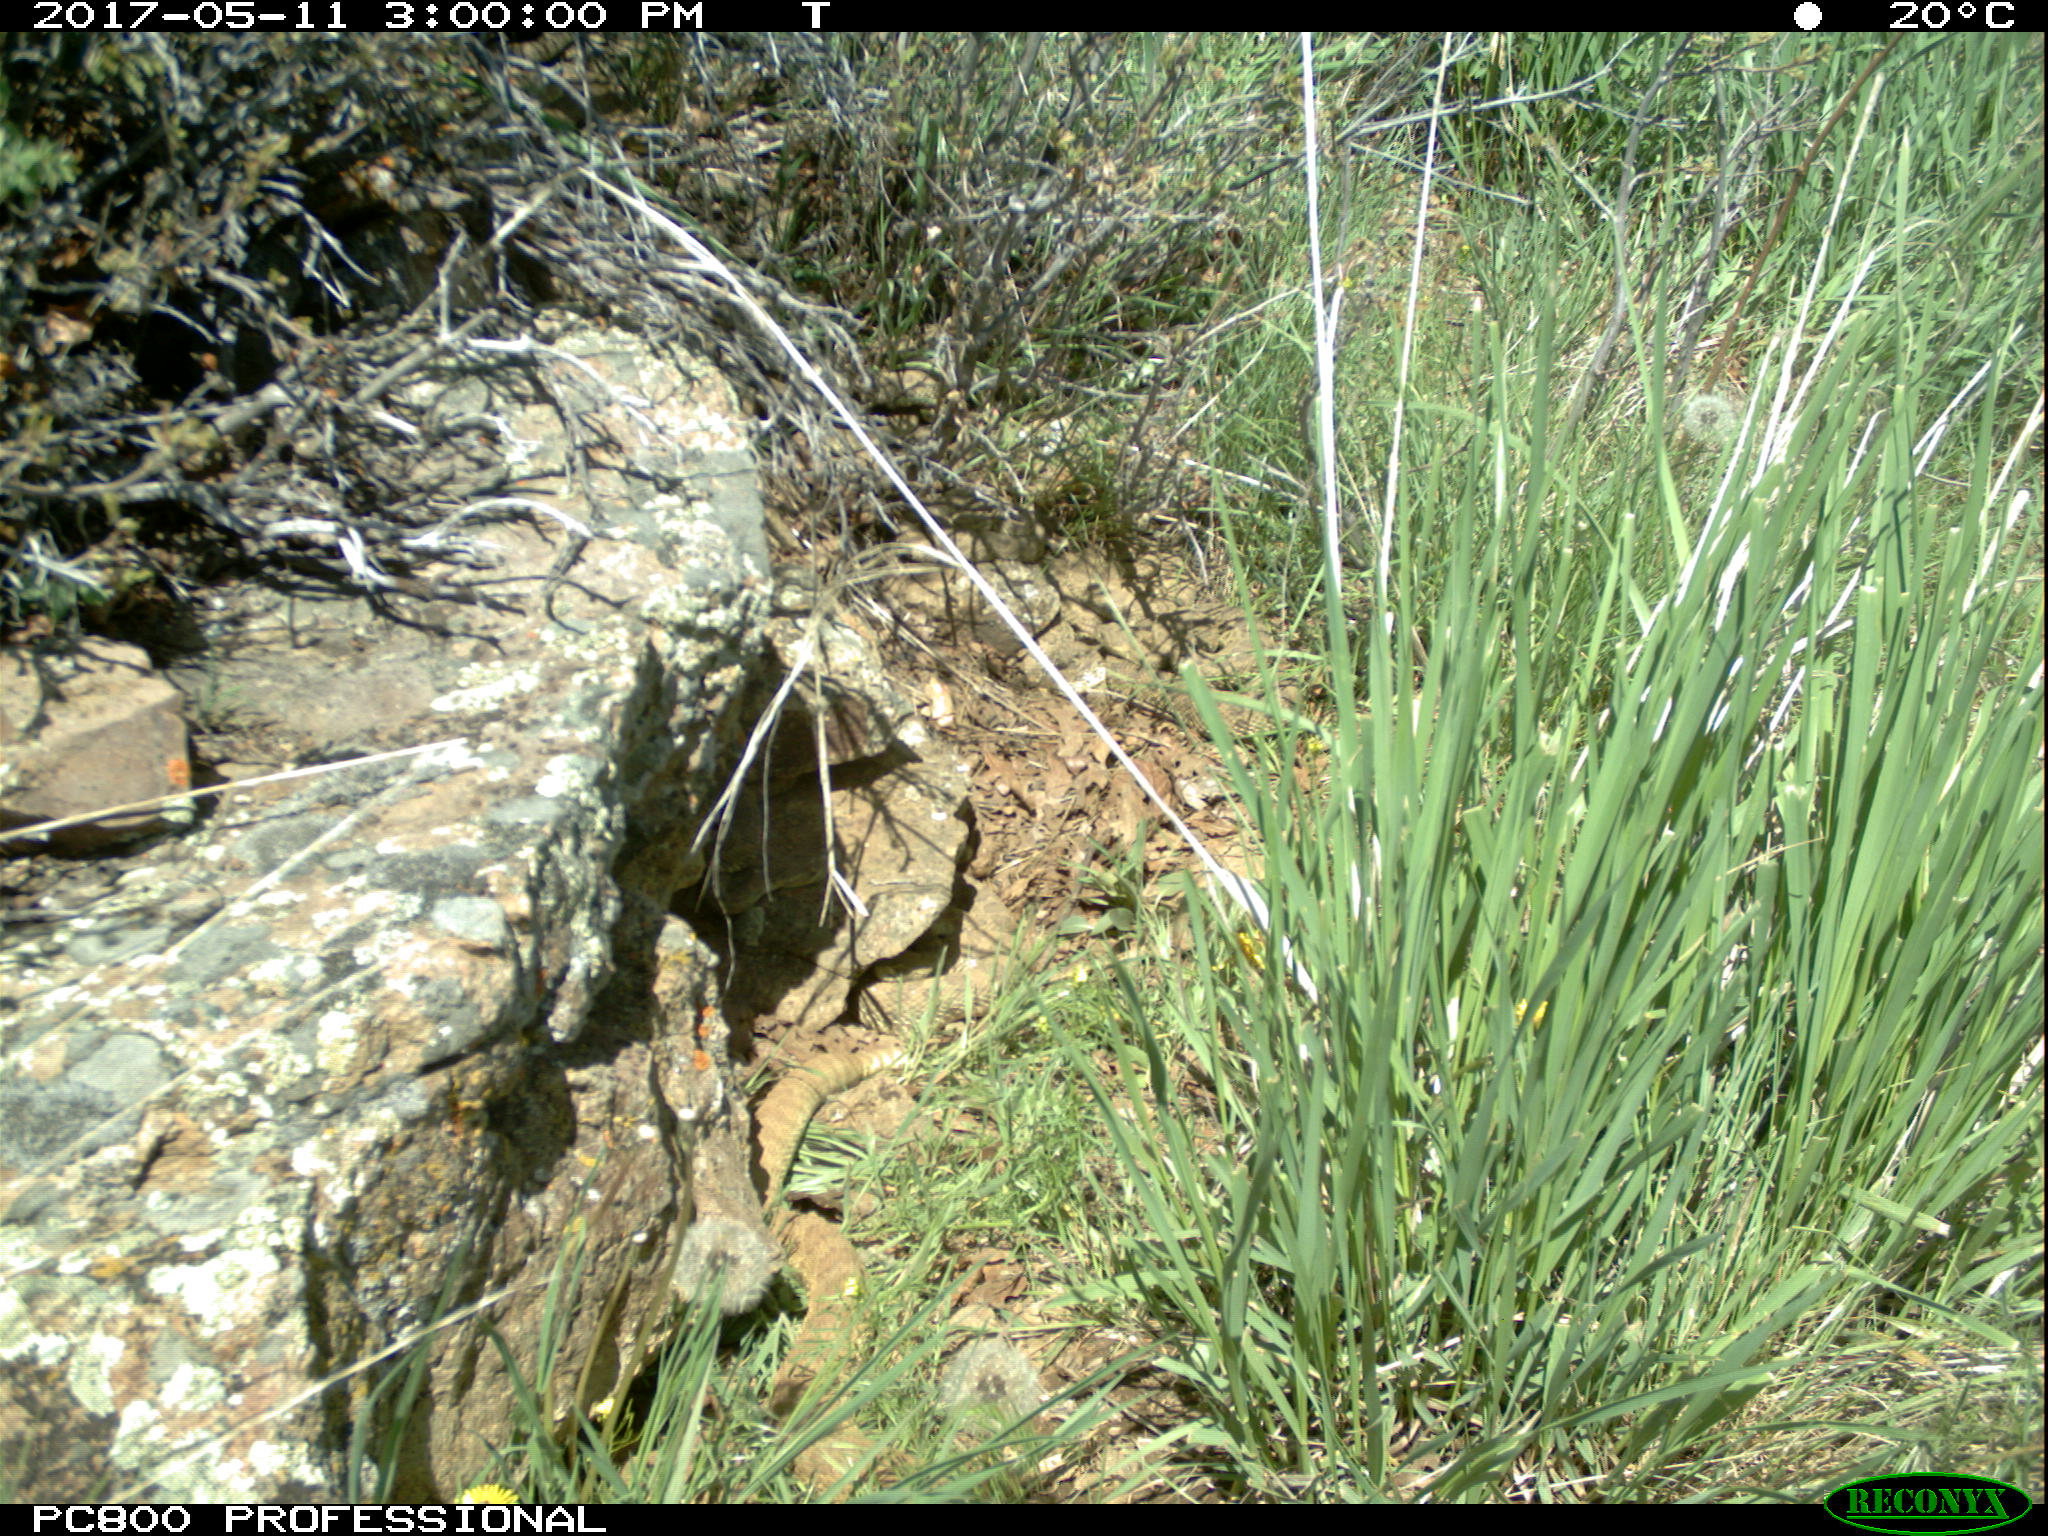snake: (1061, 568, 1306, 765), (758, 1205, 885, 1501), (851, 881, 1047, 1031), (739, 1037, 914, 1191)
